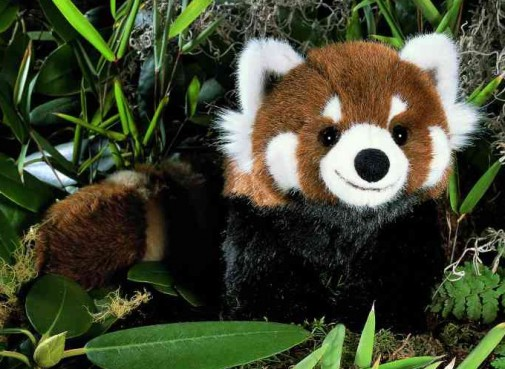red_panda: (43, 45, 463, 328)
